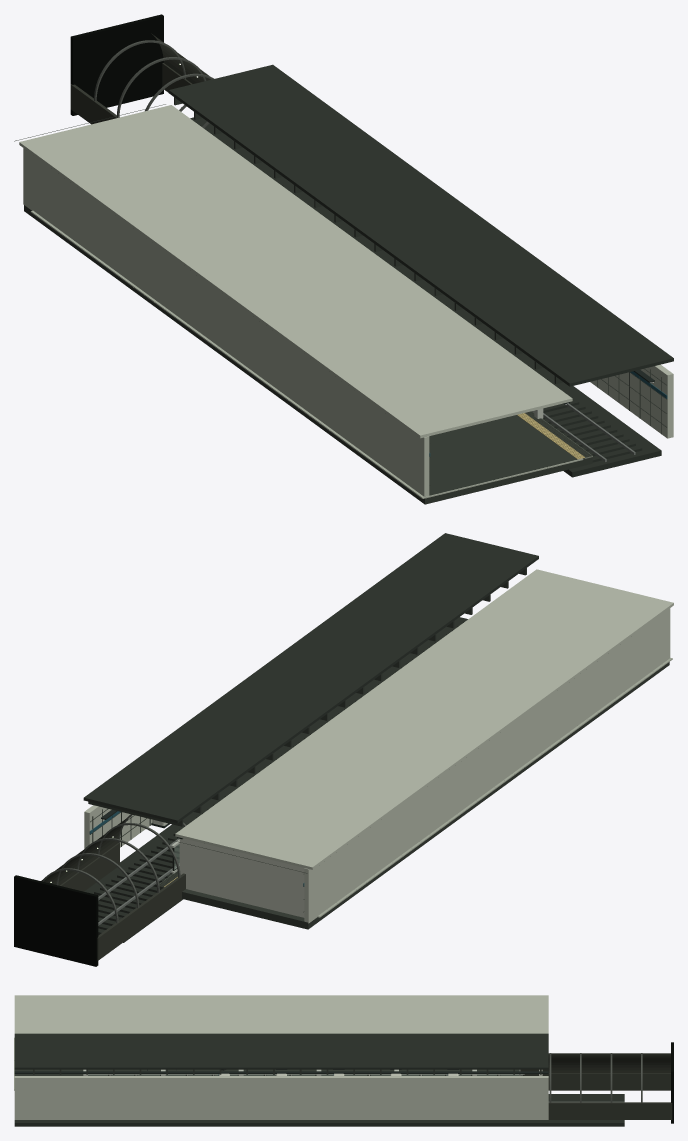
The model's file is station.glb.
The picture shows the model from 3 angles, top to bottom: view 1: azimuth 30°, elevation 25°; view 2: azimuth 150°, elevation 25°; view 3: azimuth 270°, elevation 25°; orthographic projection. The views are drawn at different scales.
Visible parts, largest first — view 1: object_0005_0007_8, object_0005_0007_4, object_0005_0007_0, object_0008_0010_3, object_0005_0007_1, object_0008_0010_1, object_0008_0010_4, object_0008_0010_0; view 2: object_0005_0007_8, object_0005_0007_4, object_0006_0008_0, object_0008_0010_3, object_0005_0007_0, object_0008_0010_1, object_0008_0010_4, object_0005_0007_1, object_0008_0010_0; view 3: object_0005_0007_8, object_0005_0007_4, object_0008_0010_1, object_0008_0010_0, object_0005_0007_0, object_0006_0008_2, object_0007_0009_20, object_0008_0010_4, object_0007_0009_0, object_0008_0010_3.
Boxes of the visible parts, left/top/right/bottom form: object_0005_0007_8: left=19, top=105, right=673, bottom=496; object_0005_0007_4: left=168, top=64, right=673, bottom=477; object_0005_0007_0: left=14, top=97, right=666, bottom=504; object_0008_0010_3: left=70, top=14, right=163, bottom=115; object_0005_0007_1: left=30, top=210, right=583, bottom=498; object_0008_0010_1: left=70, top=63, right=192, bottom=124; object_0008_0010_4: left=94, top=40, right=214, bottom=128; object_0008_0010_0: left=151, top=33, right=211, bottom=83; object_0005_0007_8: left=84, top=569, right=673, bottom=923; object_0005_0007_4: left=83, top=533, right=538, bottom=942; object_0006_0008_0: left=152, top=819, right=304, bottom=917; object_0008_0010_3: left=14, top=875, right=98, bottom=966; object_0005_0007_0: left=88, top=567, right=669, bottom=929; object_0008_0010_1: left=60, top=842, right=185, bottom=960; object_0008_0010_4: left=42, top=814, right=186, bottom=923; object_0005_0007_1: left=317, top=658, right=672, bottom=917; object_0008_0010_0: left=41, top=817, right=128, bottom=885; object_0005_0007_8: left=14, top=995, right=548, bottom=1119; object_0005_0007_4: left=14, top=1033, right=624, bottom=1126; object_0008_0010_1: left=520, top=1073, right=672, bottom=1119; object_0008_0010_0: left=520, top=1053, right=670, bottom=1073; object_0005_0007_0: left=14, top=1069, right=541, bottom=1075; object_0006_0008_2: left=14, top=1069, right=548, bottom=1073; object_0007_0009_20: left=88, top=1074, right=522, bottom=1075; object_0008_0010_4: left=519, top=1053, right=642, bottom=1102; object_0007_0009_0: left=83, top=1069, right=524, bottom=1075; object_0008_0010_3: left=671, top=1042, right=673, bottom=1123.
Bounding box in the file's own units: 5.11 × 1.82 × 17.31.
28 materials, 5 textured.
